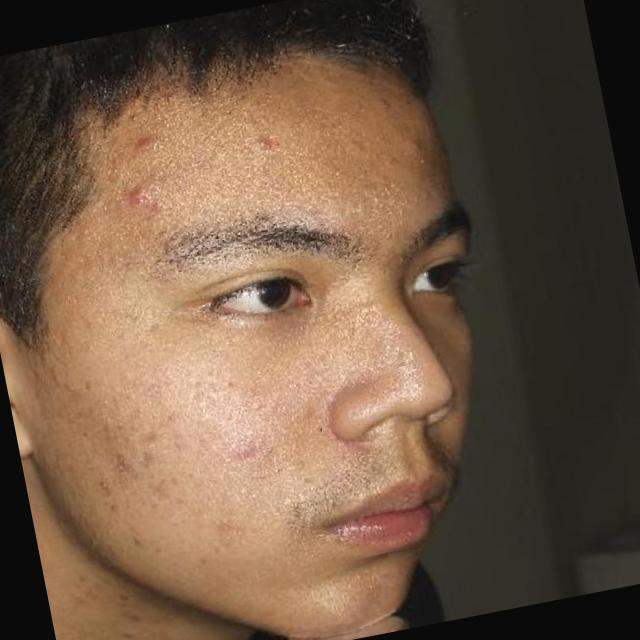nodules: (116, 172, 158, 215), (245, 125, 282, 165), (126, 129, 164, 161), (392, 130, 430, 160), (142, 192, 174, 222)
